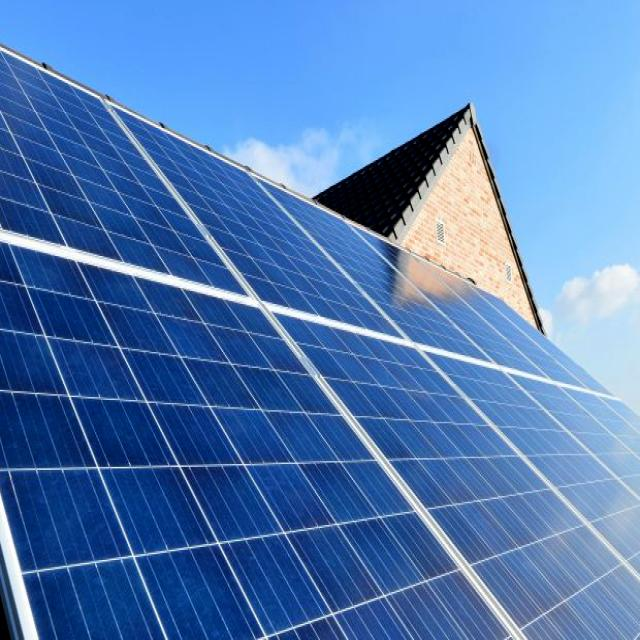crack: (2, 51, 637, 640)
